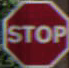Stop: (3, 0, 66, 64)
